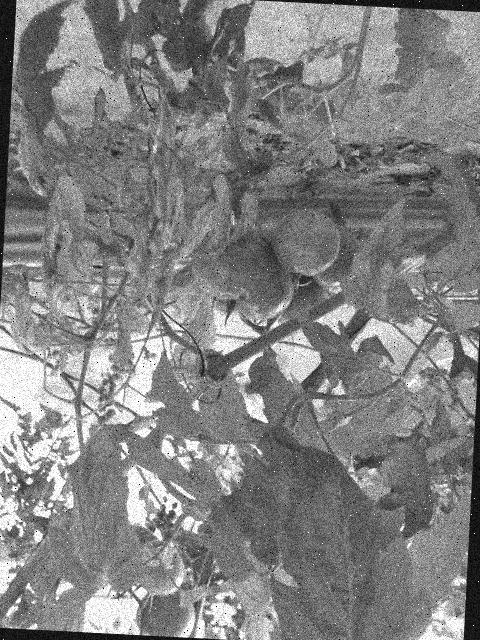b_fully_ripened: (189, 223, 297, 321), (311, 225, 364, 294), (276, 275, 330, 334)
b_green: (138, 538, 187, 598), (134, 591, 196, 638)
b_half_ripened: (270, 207, 343, 278)
